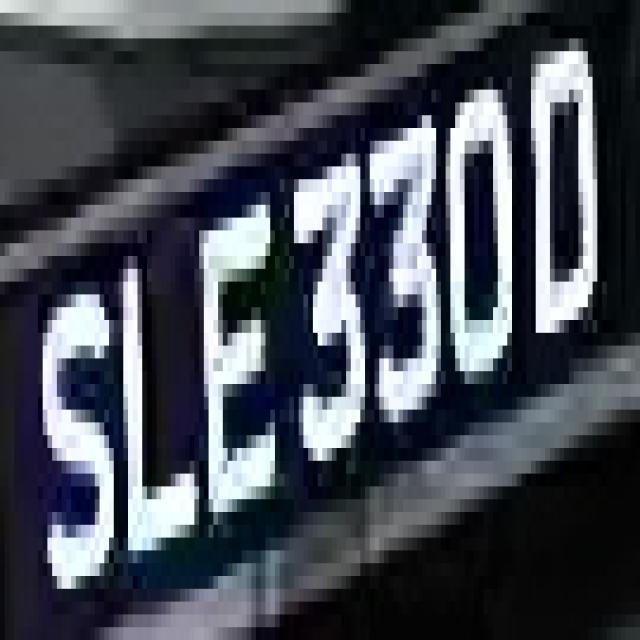0: (436, 51, 522, 410)
3: (284, 115, 370, 512), (355, 77, 441, 435)
D: (526, 13, 602, 384)
E: (185, 205, 275, 563)
L: (104, 205, 194, 563)
S: (28, 256, 118, 602)
